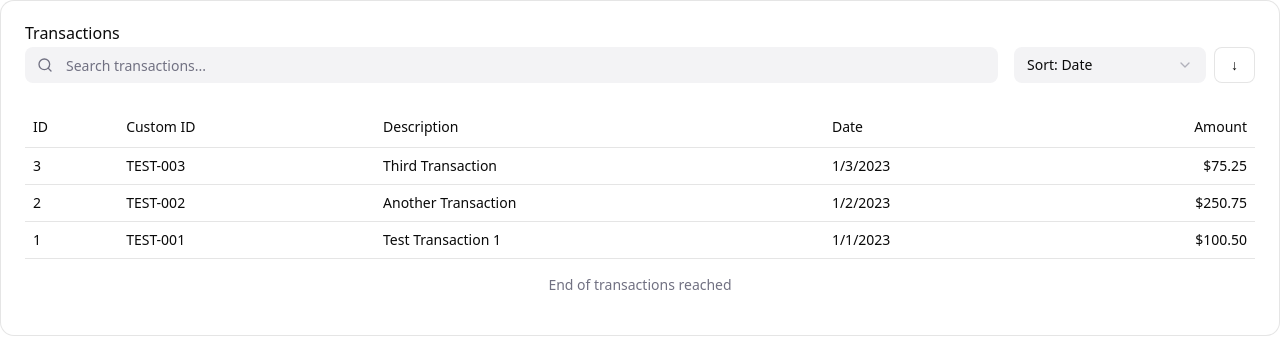
it: TransactionTable › filters transactions based on custom ID search
Note: Search for a specific custom ID
Type "TEST-003" into the field with placeholder "Search transactions...". click: (512, 65)
box: [25,47,998,83]
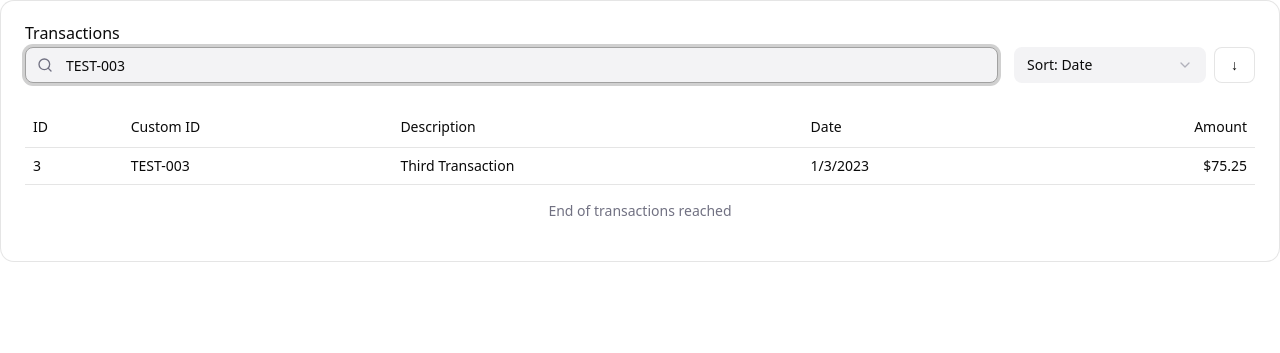
Expected: the text "Third Transaction" is shown, [392,147,803,184]
Expected: the text "Test Transaction 1" is gone
Expected: the text "Another Transaction" is gone
